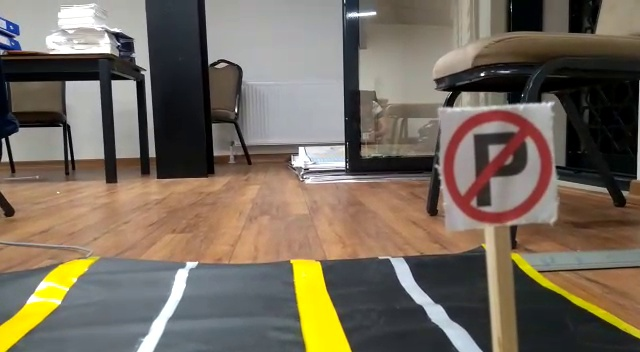park_yapilmaz: (434, 107, 562, 230)
